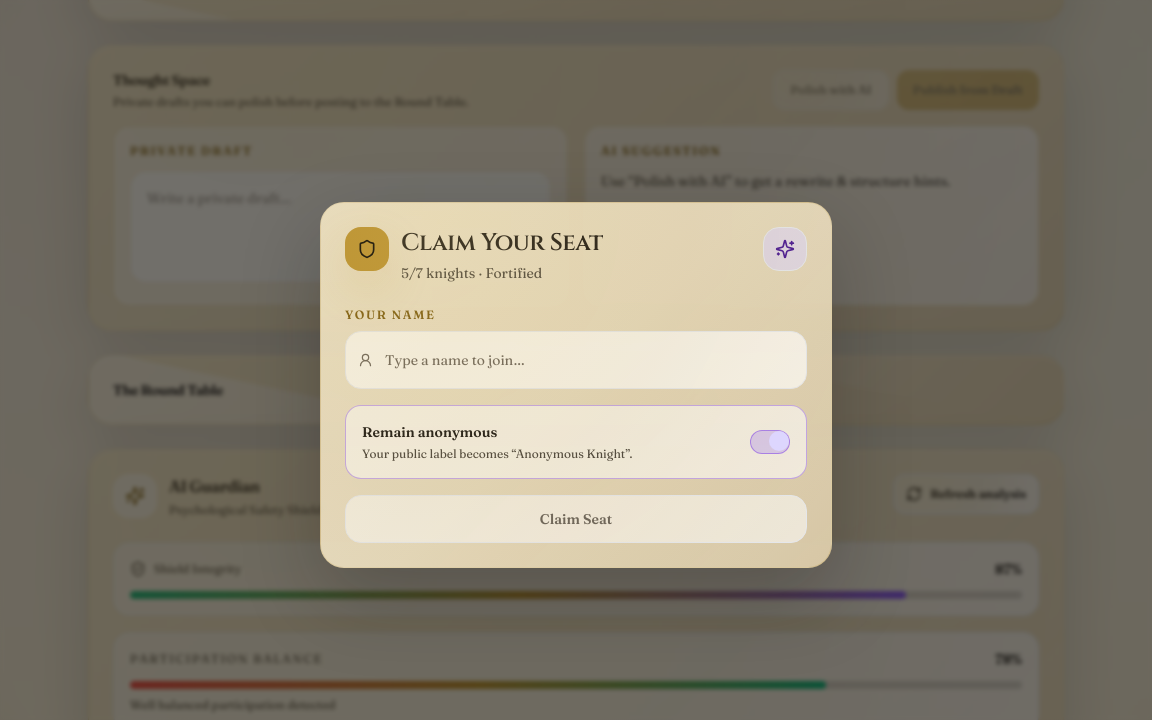
room highlights extracted keywords in messages when AI guard is enabled
(page scrolled)
Expected: the heading "Claim Your Seat" is shown, [401,227,603,259]
Type "Alice" into the field labelled "YOUR NAME".
click(590, 360); type("Alice")  # box [385,340,794,380]
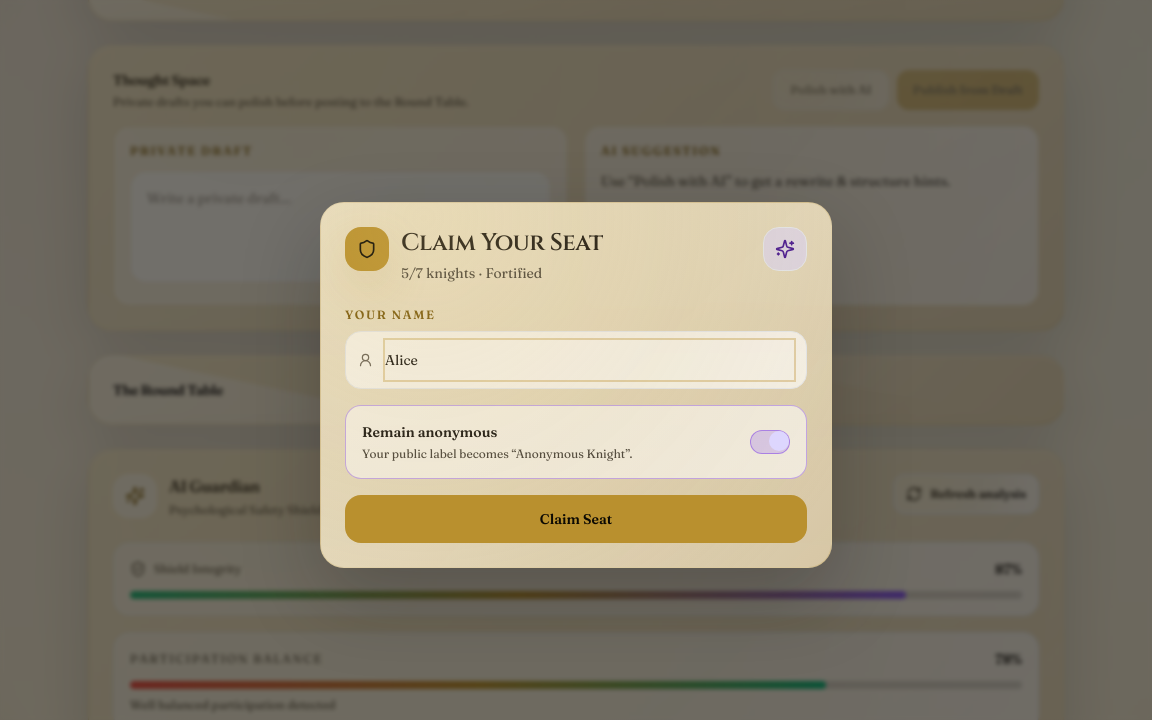
Click the button "Claim Seat".
click(576, 519)  # box [345,495,807,543]
(page scrolled)
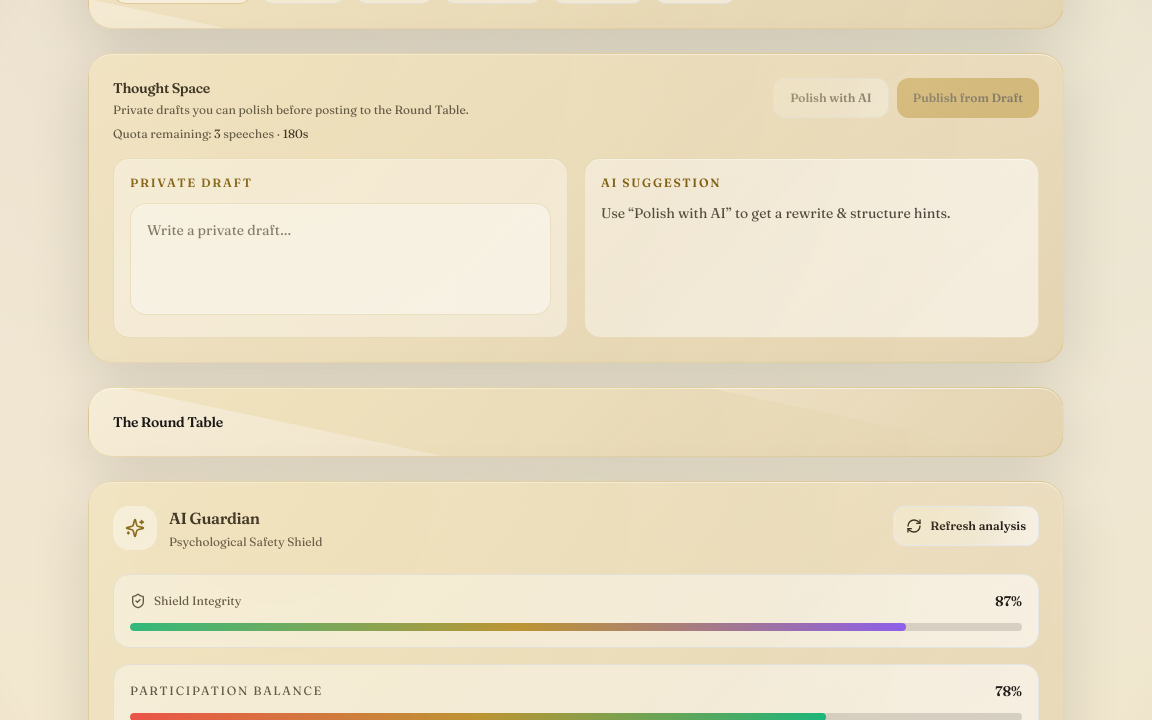
Type "safety safety helps participation" into the text box labelled "Write a private draft…".
click(340, 259); type("safety safety helps participation")  # box [130,203,551,315]
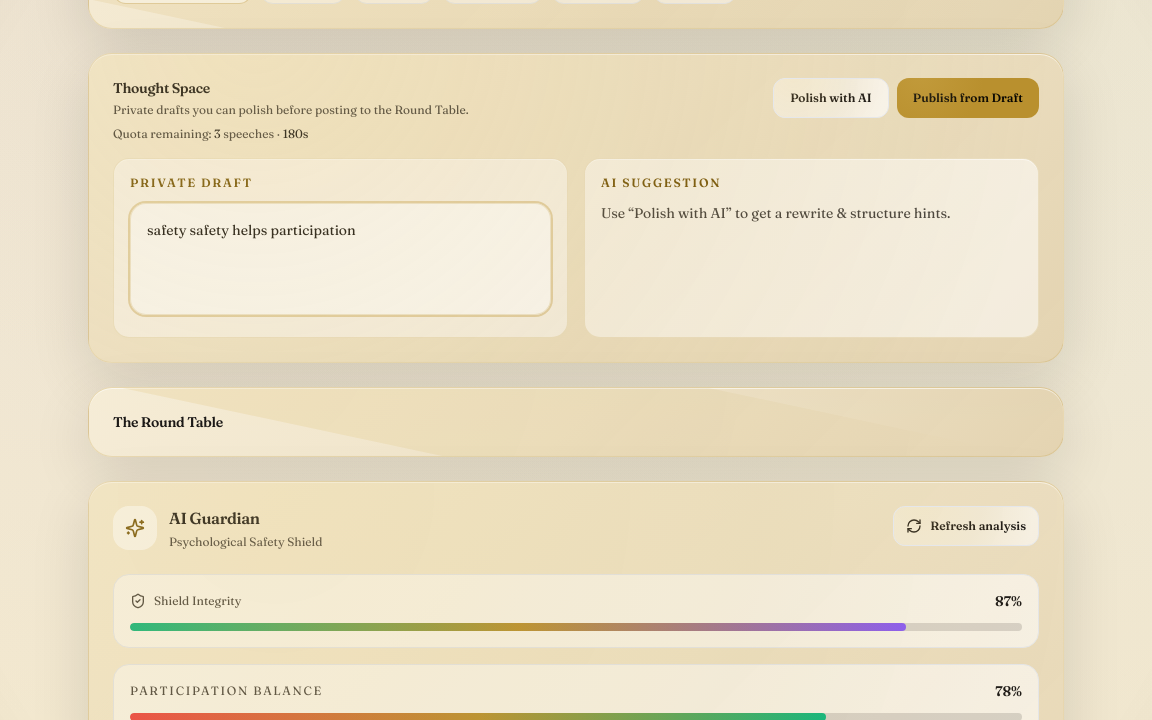
Click the button "Publish from Draft".
click(968, 98)  # box [897,78,1039,118]
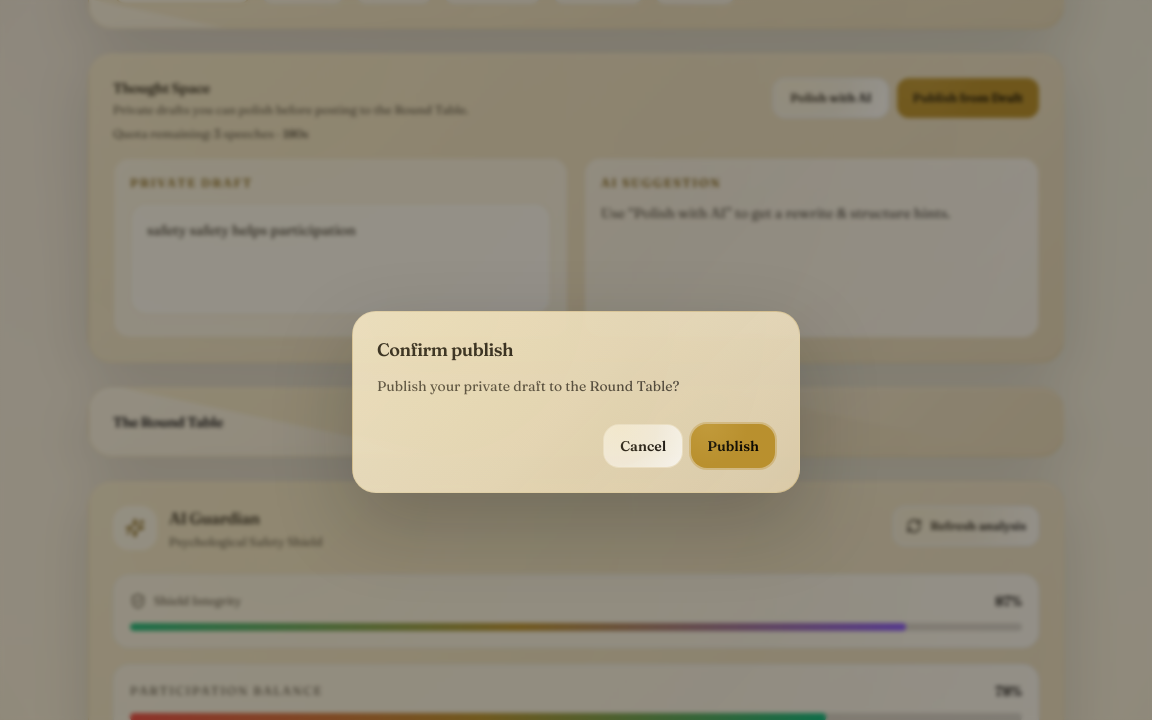
Click the button "Publish".
click(733, 446)  # box [691,424,775,468]
(page scrolled)
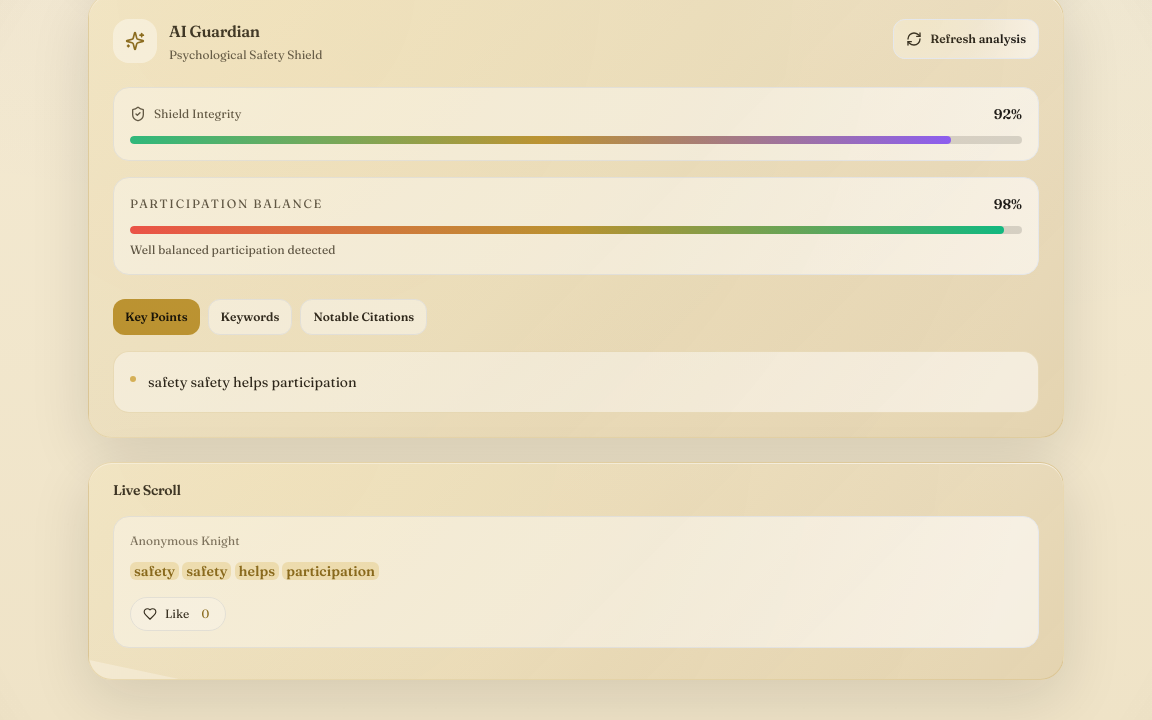
Result: the 1st text "safety" is shown at [130,562,179,580]
